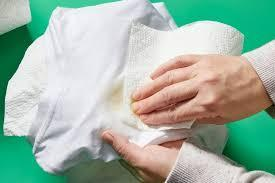mustard: (105, 84, 122, 105)
